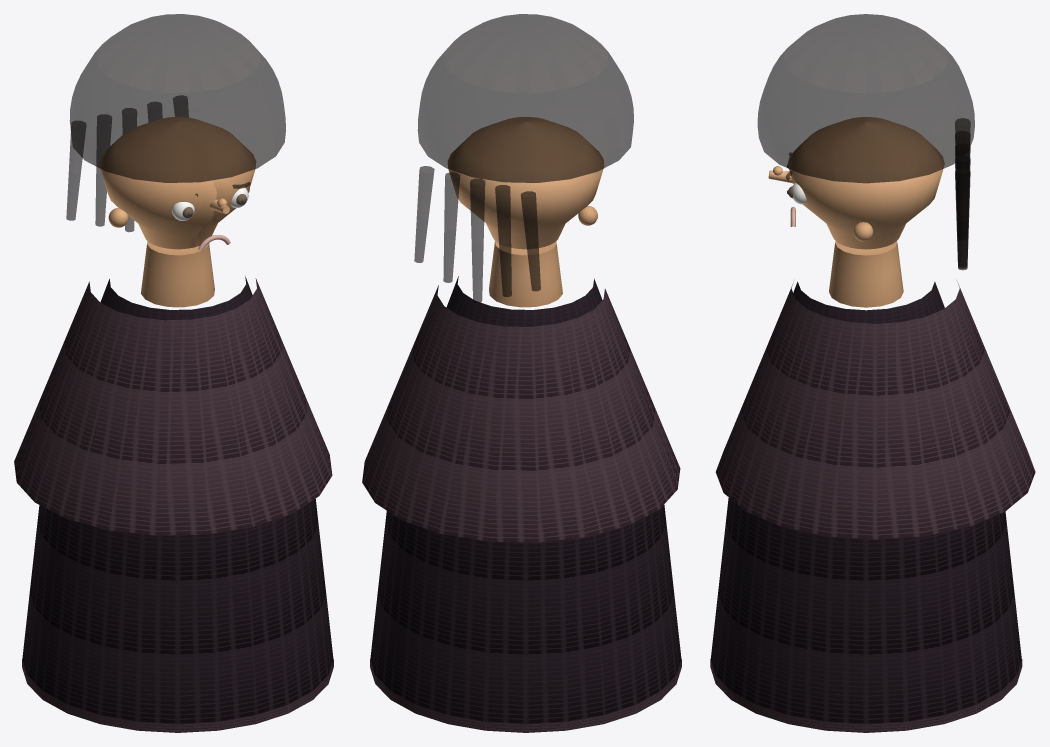
The model's file is claudia_procula.glb.
The picture shows the model from 3 angles, left to right: view 1: azimuth 30°, elevation 25°; view 2: azimuth 150°, elevation 25°; view 3: azimuth 270°, elevation 25°; orthographic projection.
Parts seen in each view (by area): view 1: Character_claudia_procula, head; view 2: Character_claudia_procula, head; view 3: Character_claudia_procula, head.
Boxes of the visible parts, <box> form: Character_claudia_procula: <box>14,14,333,732</box>; head: <box>100,117,255,249</box>; Character_claudia_procula: <box>362,14,681,732</box>; head: <box>448,117,603,249</box>; Character_claudia_procula: <box>710,14,1035,732</box>; head: <box>788,117,944,249</box>.
Size of the model in its own units: 0.8118 by 1.8 by 0.8252.
8 materials, 4 textured.
